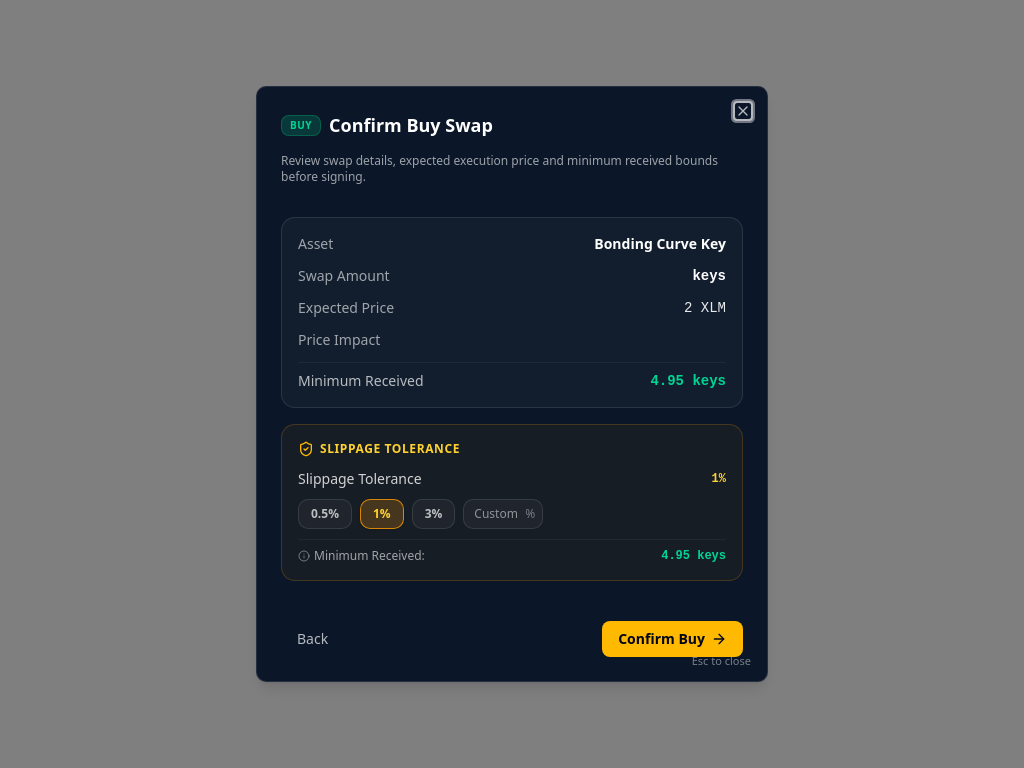
Test: SwapConfirmationModal › custom values outside 0.01%–50% show an inline error and disable confirm
The image size is (1024, 768).
Expected: the button with test id "swap-confirmation-modal-confirm" is enabled, x1=602 y1=621 x2=743 y2=657
// Test negative value
Type "-1" into the field with test id "slippage-custom-input" at (503, 514), box x1=463 y1=499 x2=543 y2=529
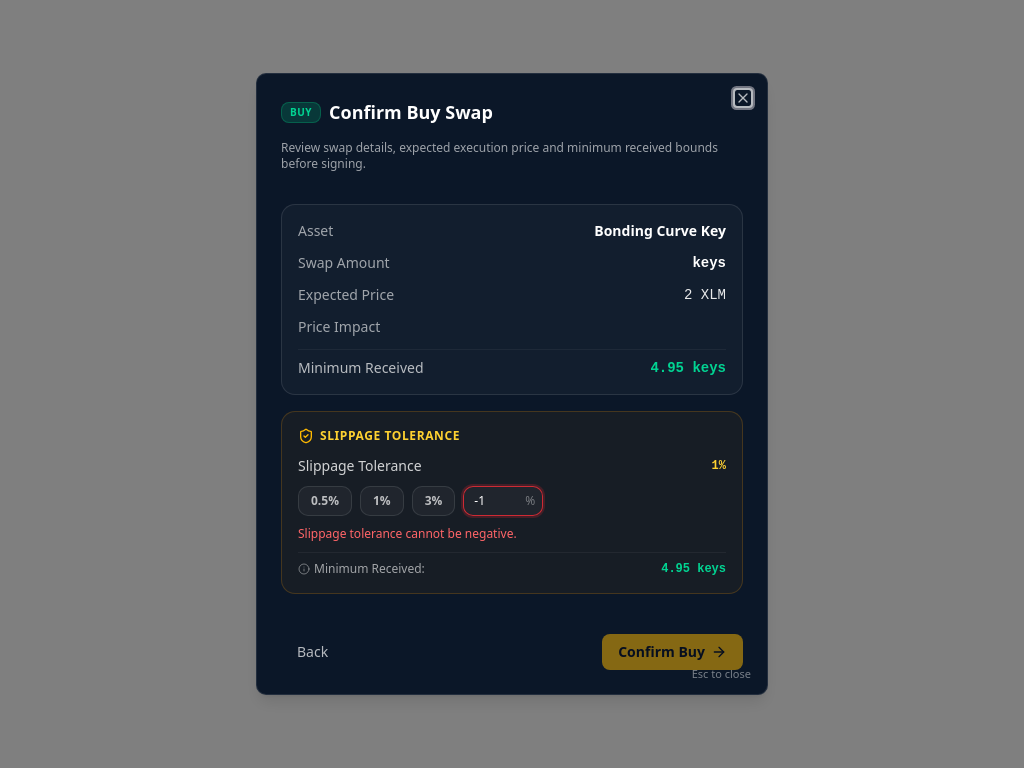
Expected: the message with test id "slippage-custom-error" shows "cannot be negative", x1=298 y1=525 x2=517 y2=542
Expected: the button with test id "swap-confirmation-modal-confirm" is disabled, x1=602 y1=634 x2=743 y2=670
// Test above 50%
Replace the text in the field with test id "slippage-custom-input" with "60" at (503, 501), box x1=463 y1=486 x2=543 y2=516
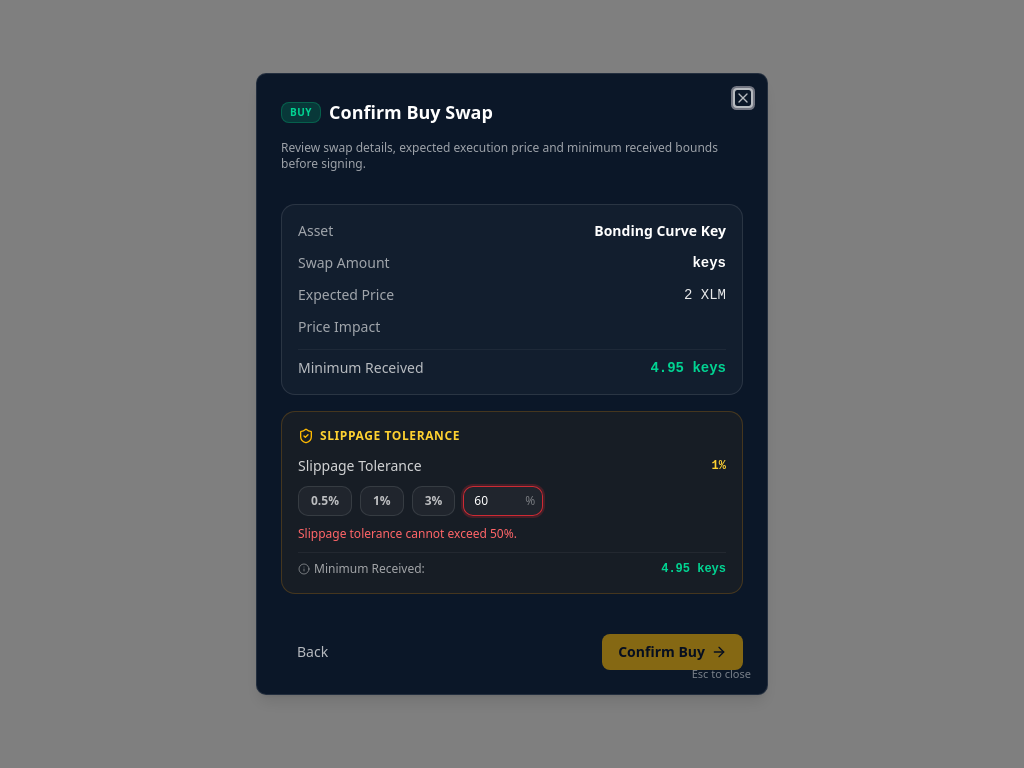
Expected: the button with test id "swap-confirmation-modal-confirm" is disabled, x1=602 y1=634 x2=743 y2=670
Expected: the message with test id "slippage-custom-error" shows "cannot exceed 50%", x1=298 y1=525 x2=517 y2=542
// Test below 0.01%
Replace the text in the field with test id "slippage-custom-input" with "0" at (503, 501), box x1=463 y1=486 x2=543 y2=516
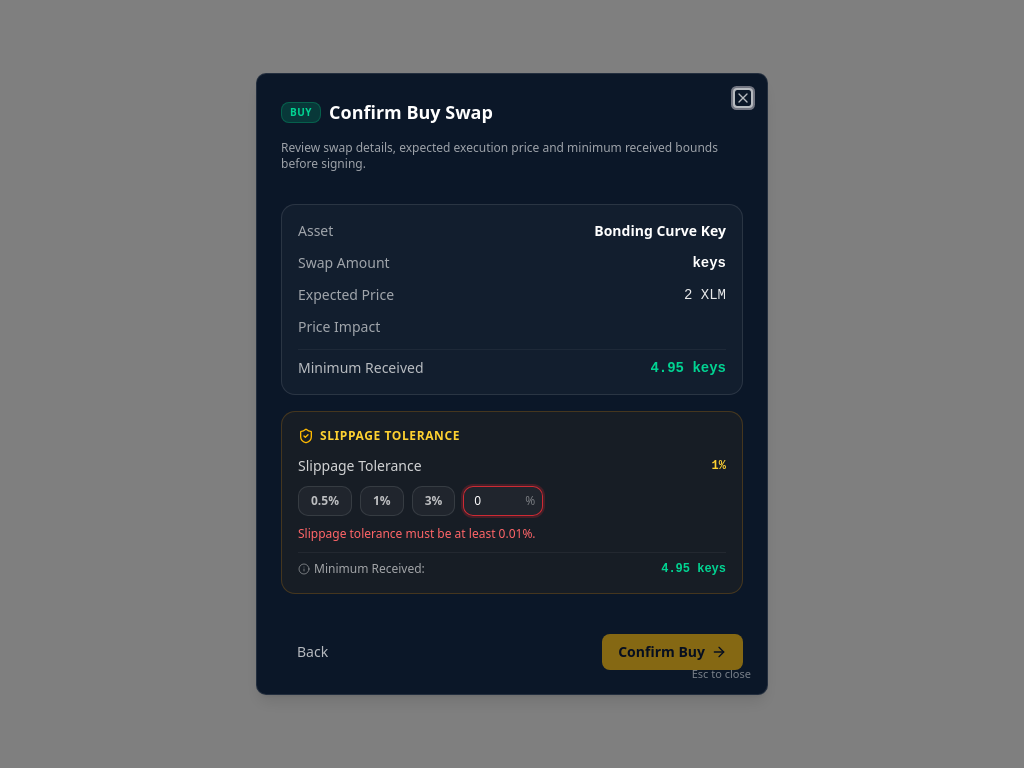
Expected: the button with test id "swap-confirmation-modal-confirm" is disabled, x1=602 y1=634 x2=743 y2=670
Expected: the message with test id "slippage-custom-error" shows "at least 0.01%", x1=298 y1=525 x2=536 y2=542
// Restore valid value
Replace the text in the field with test id "slippage-custom-input" with "2.5" at (503, 501), box x1=463 y1=486 x2=543 y2=516
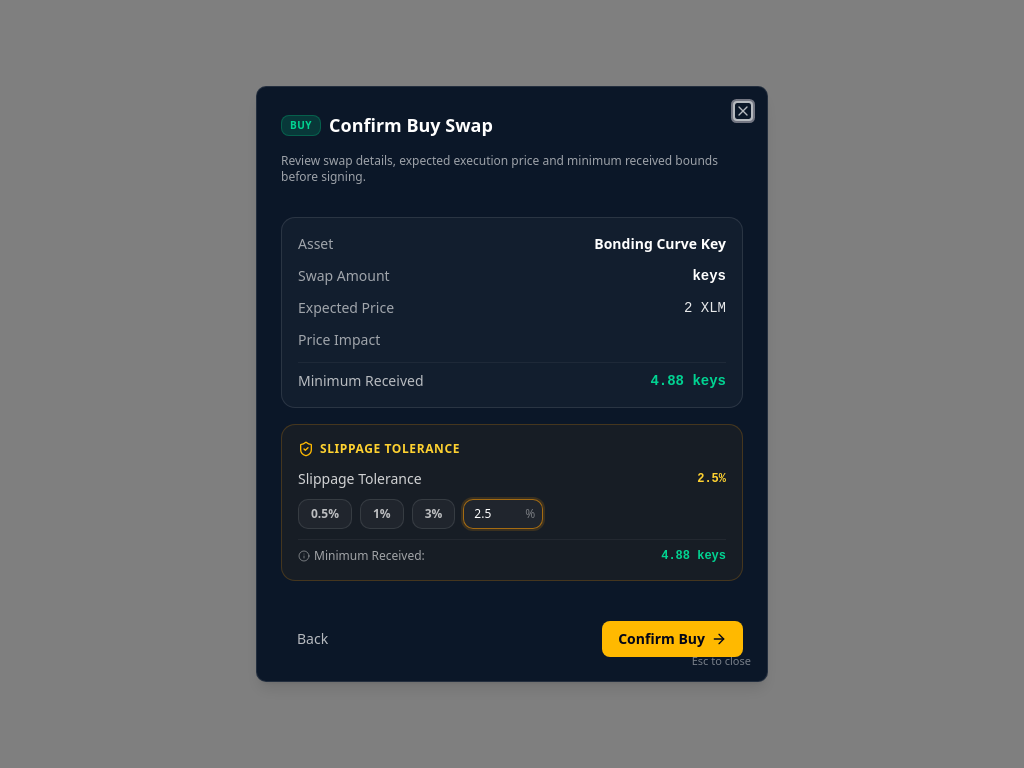
Expected: the message with test id "slippage-custom-error" is gone
Expected: the button with test id "swap-confirmation-modal-confirm" is enabled, x1=602 y1=621 x2=743 y2=657
